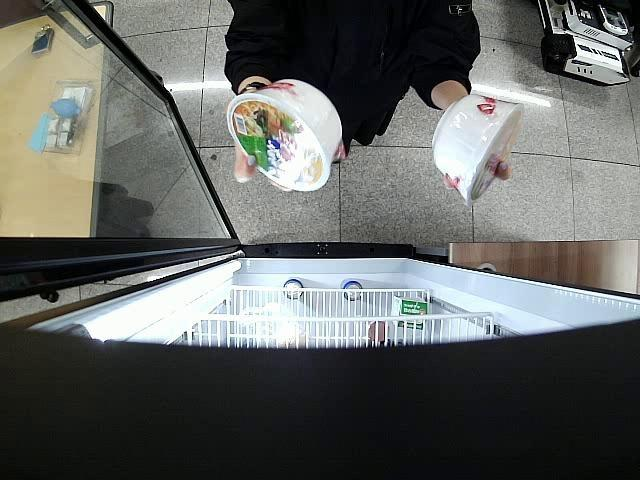09_yukGaeJang: (227, 78, 343, 192), (433, 94, 525, 204)
